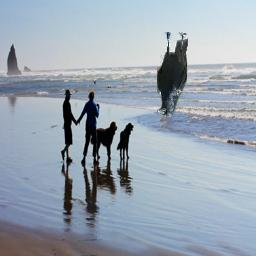Crow: (158, 33, 189, 118)
